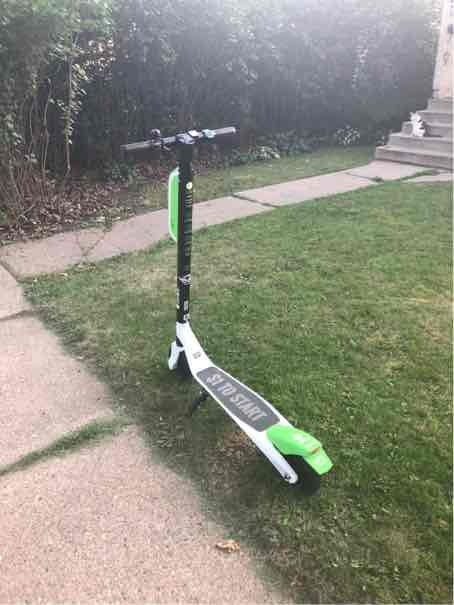scooter: (124, 119, 340, 489)
